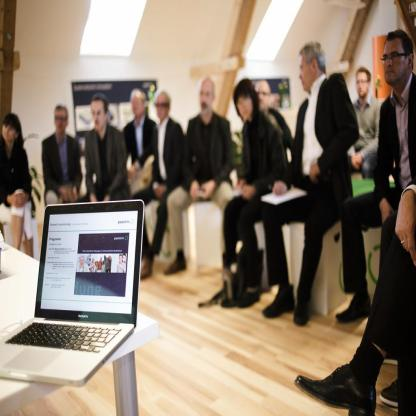board: (2, 197, 140, 404)
